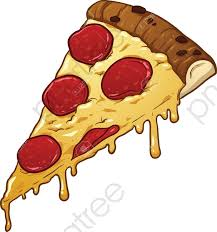pizza: (10, 2, 211, 219)
